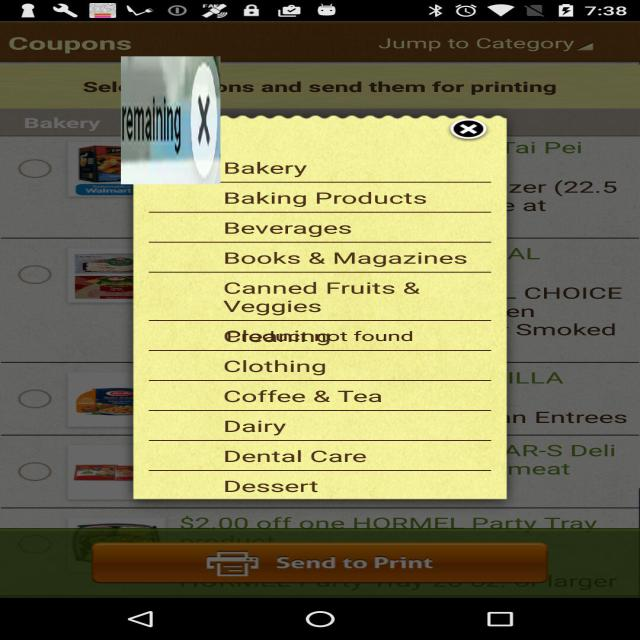misdirection: (121, 56, 220, 185)
